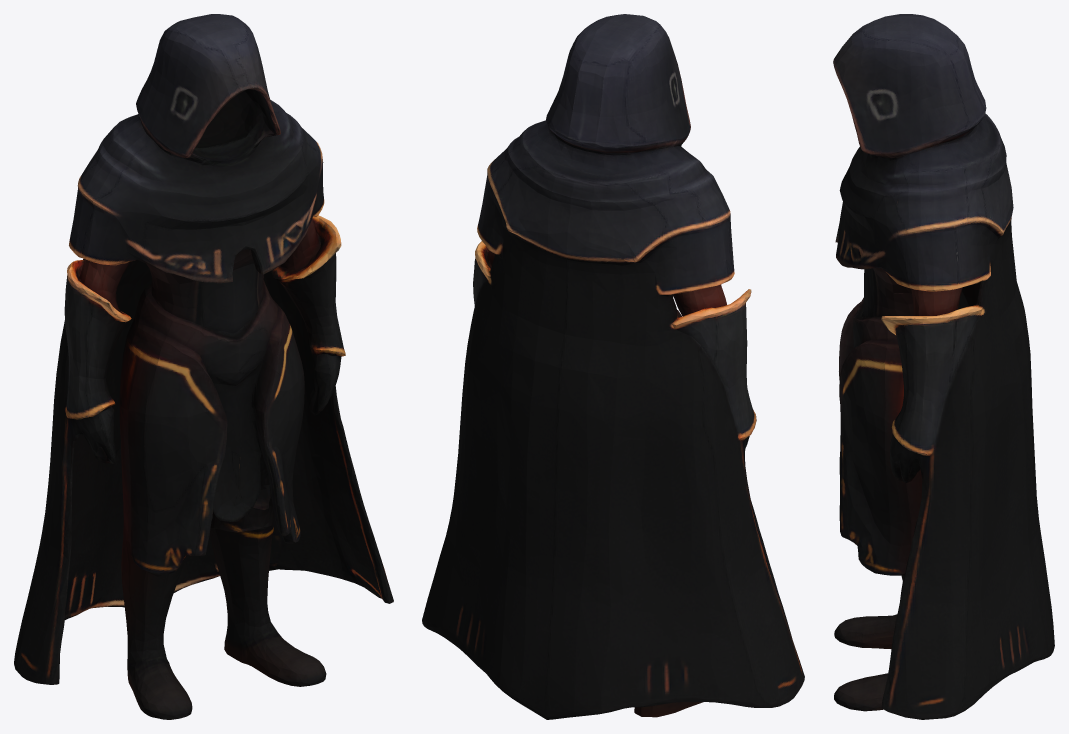
The model's file is Enemy-Encrypted.glb.
The picture shows the model from 3 angles, left to right: view 1: azimuth 30°, elevation 25°; view 2: azimuth 150°, elevation 25°; view 3: azimuth 270°, elevation 25°; orthographic projection. The views are drawn at different scales.
Parts seen in each view (by area): view 1: world; view 2: world; view 3: world.
Boxes of the visible parts, x1,y1,x2,y2 form: world: (14, 14, 393, 719); world: (422, 14, 804, 719); world: (833, 14, 1054, 719).
Bounding box in the file's own units: 0.5693 × 1 × 0.311.
1 material, 1 textured.
